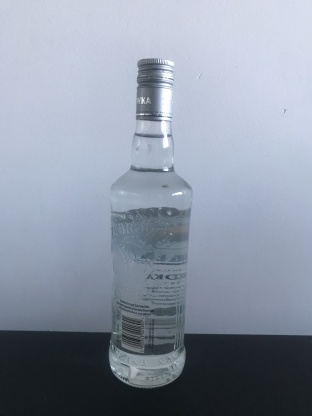nakretka: (134, 55, 176, 123)
